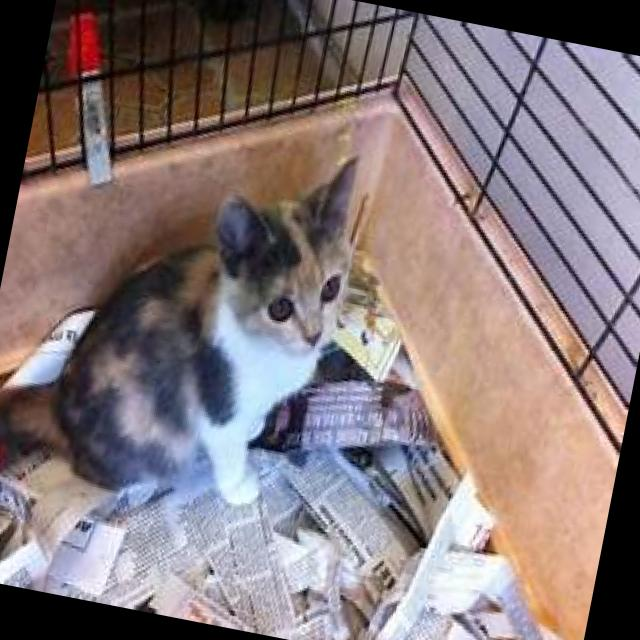cat: (0, 91, 375, 532)
